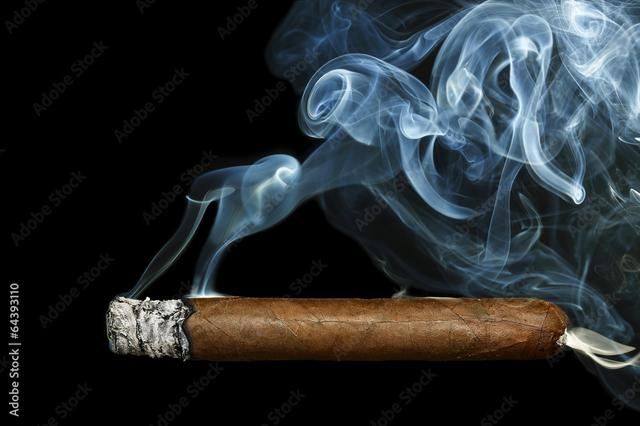Cigar: (80, 20, 638, 368)
